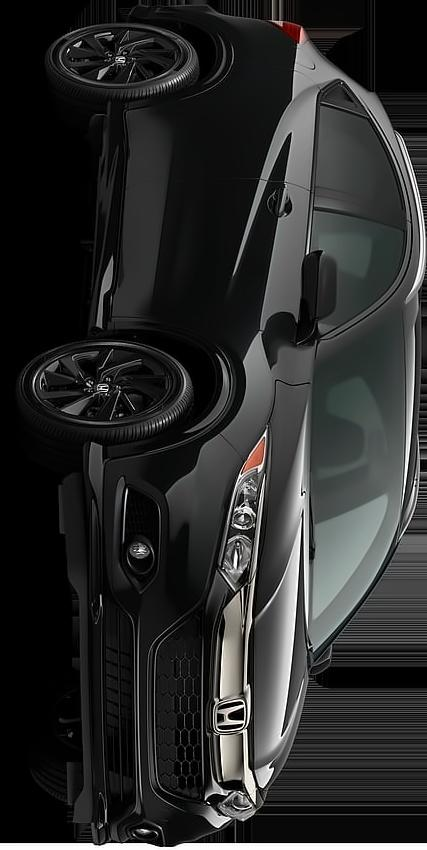Car hood: (245, 380, 322, 798)
Driver-s door - -F-R-: (105, 194, 425, 325)
Fender - -F-R-: (89, 315, 326, 457)
Fender - -R-R-: (202, 25, 311, 84)
Front bumper: (42, 444, 222, 850)
Headlight - -L-: (214, 772, 263, 831)
Headlight - -R-: (212, 422, 278, 595)
Passenger-s door - -R-R-: (112, 85, 420, 191)
Rear bumper: (109, 0, 216, 39)
Rear light - -R-: (265, 10, 317, 48)
Side bumper - -R-: (77, 92, 131, 351)
Side mirror - -L-: (302, 630, 340, 687)
Side mirror - -R-: (295, 234, 344, 330)
